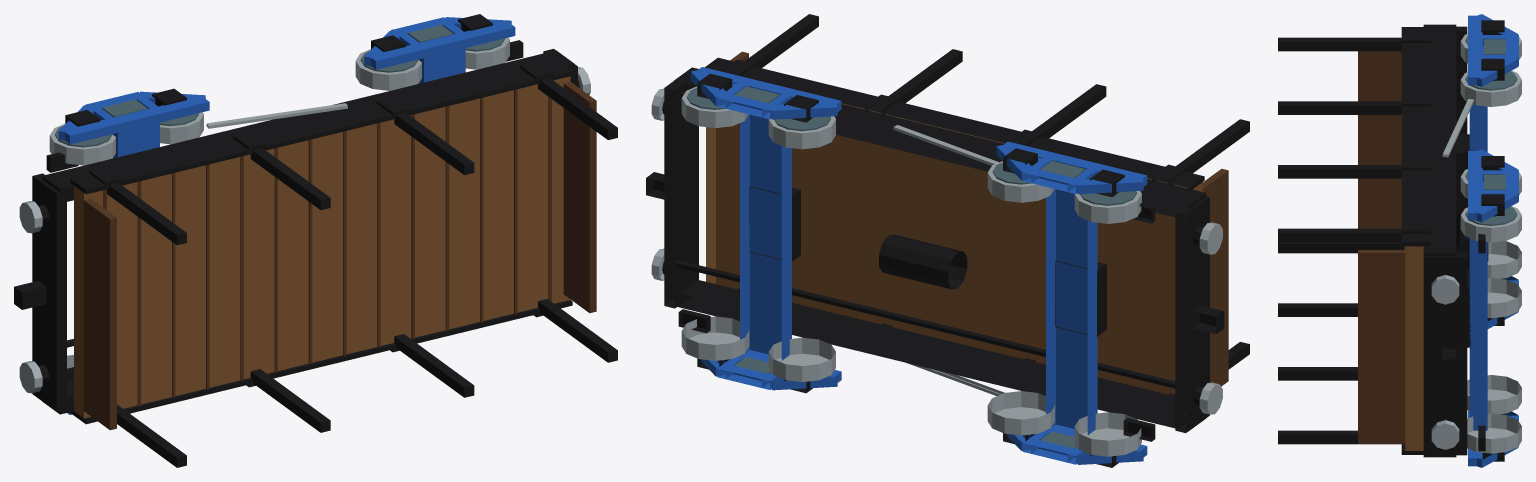
File: empty.glb
3 renders of one model, left to right at view 1: azimuth 30°, elevation 25°; view 2: azimuth 150°, elevation 25°; view 3: azimuth 270°, elevation 25°, orthographic. The views are drawn at different scales.
Visible parts, largest first — view 1: empty_deck, empty_side1_-3.50_1.90, empty_bogie-1, empty_bogie1, empty_bulkhead-1, empty_bulkhead1, empty_headstock-1, empty_solebar1, empty_side-1_-3.50_1.90, empty_buffers-1, empty_stake-12, empty_stake-11 (+20 smaller); view 2: empty_deck, empty_bogie1, empty_bogie-1, empty_solebar-1, empty_headstock1, empty_headstock-1, empty_side1_-3.50_1.90, empty_solebar1, empty_bulkhead-1, empty_brake_cylinder, empty_brake_pipe, empty_buffers-1 (+8 smaller); view 3: empty_bogie1, empty_bulkhead1, empty_bogie-1, empty_headstock1, empty_bulkhead-1, empty_solebar1, empty_side1_-3.50_1.90, empty_deck, empty_stake10, empty_stake13, empty_buffers1, empty_stake11 (+14 smaller).
Boxes of the visible parts, bbox=[...] form: empty_deck: bbox=[74, 76, 570, 418]; empty_side1_-3.50_1.90: bbox=[70, 59, 572, 194]; empty_bogie-1: bbox=[49, 88, 209, 414]; empty_bogie1: bbox=[355, 14, 515, 90]; empty_bulkhead-1: bbox=[84, 198, 116, 430]; empty_bulkhead1: bbox=[563, 81, 596, 313]; empty_headstock-1: bbox=[32, 173, 66, 411]; empty_solebar1: bbox=[42, 50, 574, 201]; empty_side-1_-3.50_1.90: bbox=[70, 300, 572, 424]; empty_buffers-1: bbox=[14, 201, 49, 393]; empty_stake-12: bbox=[394, 334, 474, 397]; empty_stake-11: bbox=[250, 369, 330, 432]; empty_deck: bbox=[706, 103, 1202, 394]; empty_bogie1: bbox=[681, 67, 841, 393]; empty_bogie-1: bbox=[987, 141, 1147, 467]; empty_solebar-1: bbox=[674, 280, 1204, 431]; empty_headstock1: bbox=[664, 81, 698, 308]; empty_headstock-1: bbox=[1175, 196, 1209, 433]; empty_side1_-3.50_1.90: bbox=[705, 57, 1204, 192]; empty_solebar1: bbox=[674, 67, 1206, 219]; empty_bulkhead-1: bbox=[1202, 168, 1228, 386]; empty_brake_cylinder: bbox=[879, 234, 967, 289]; empty_brake_pipe: bbox=[675, 260, 1175, 388]; empty_buffers-1: bbox=[1191, 222, 1224, 414]; empty_bogie1: bbox=[1460, 149, 1521, 467]; empty_bulkhead1: bbox=[1358, 250, 1405, 444]; empty_bogie-1: bbox=[1460, 14, 1521, 328]; empty_headstock1: bbox=[1423, 252, 1467, 455]; empty_bulkhead-1: bbox=[1358, 51, 1401, 228]; empty_solebar1: bbox=[1423, 24, 1456, 255]; empty_side1_-3.50_1.90: bbox=[1401, 27, 1430, 246]; empty_deck: bbox=[1405, 246, 1423, 450]; empty_stake10: bbox=[1278, 37, 1401, 51]; empty_stake13: bbox=[1278, 228, 1401, 242]; empty_buffers1: bbox=[1431, 275, 1459, 449]; empty_stake11: bbox=[1278, 101, 1401, 114].
Bounding box in the file's own units: 8.2 × 3.9 × 3.35.
